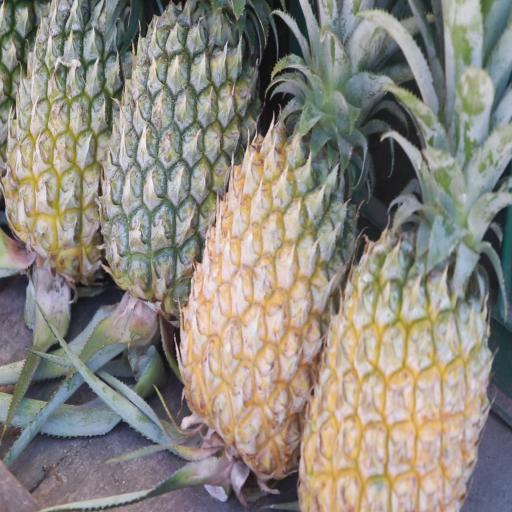------------------------------: (0, 0, 142, 293)
Pineapple - v8 v1: (172, 5, 362, 487), (295, 160, 494, 510)
